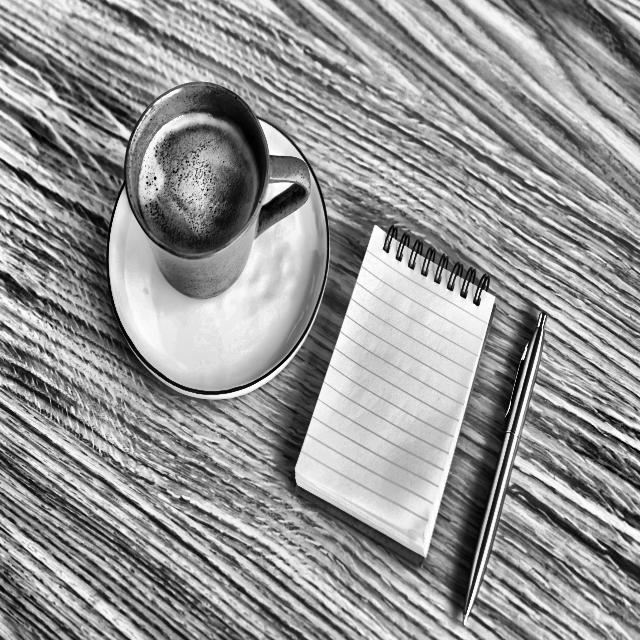Notebook: (291, 223, 495, 570)
Pen: (457, 309, 548, 628)
